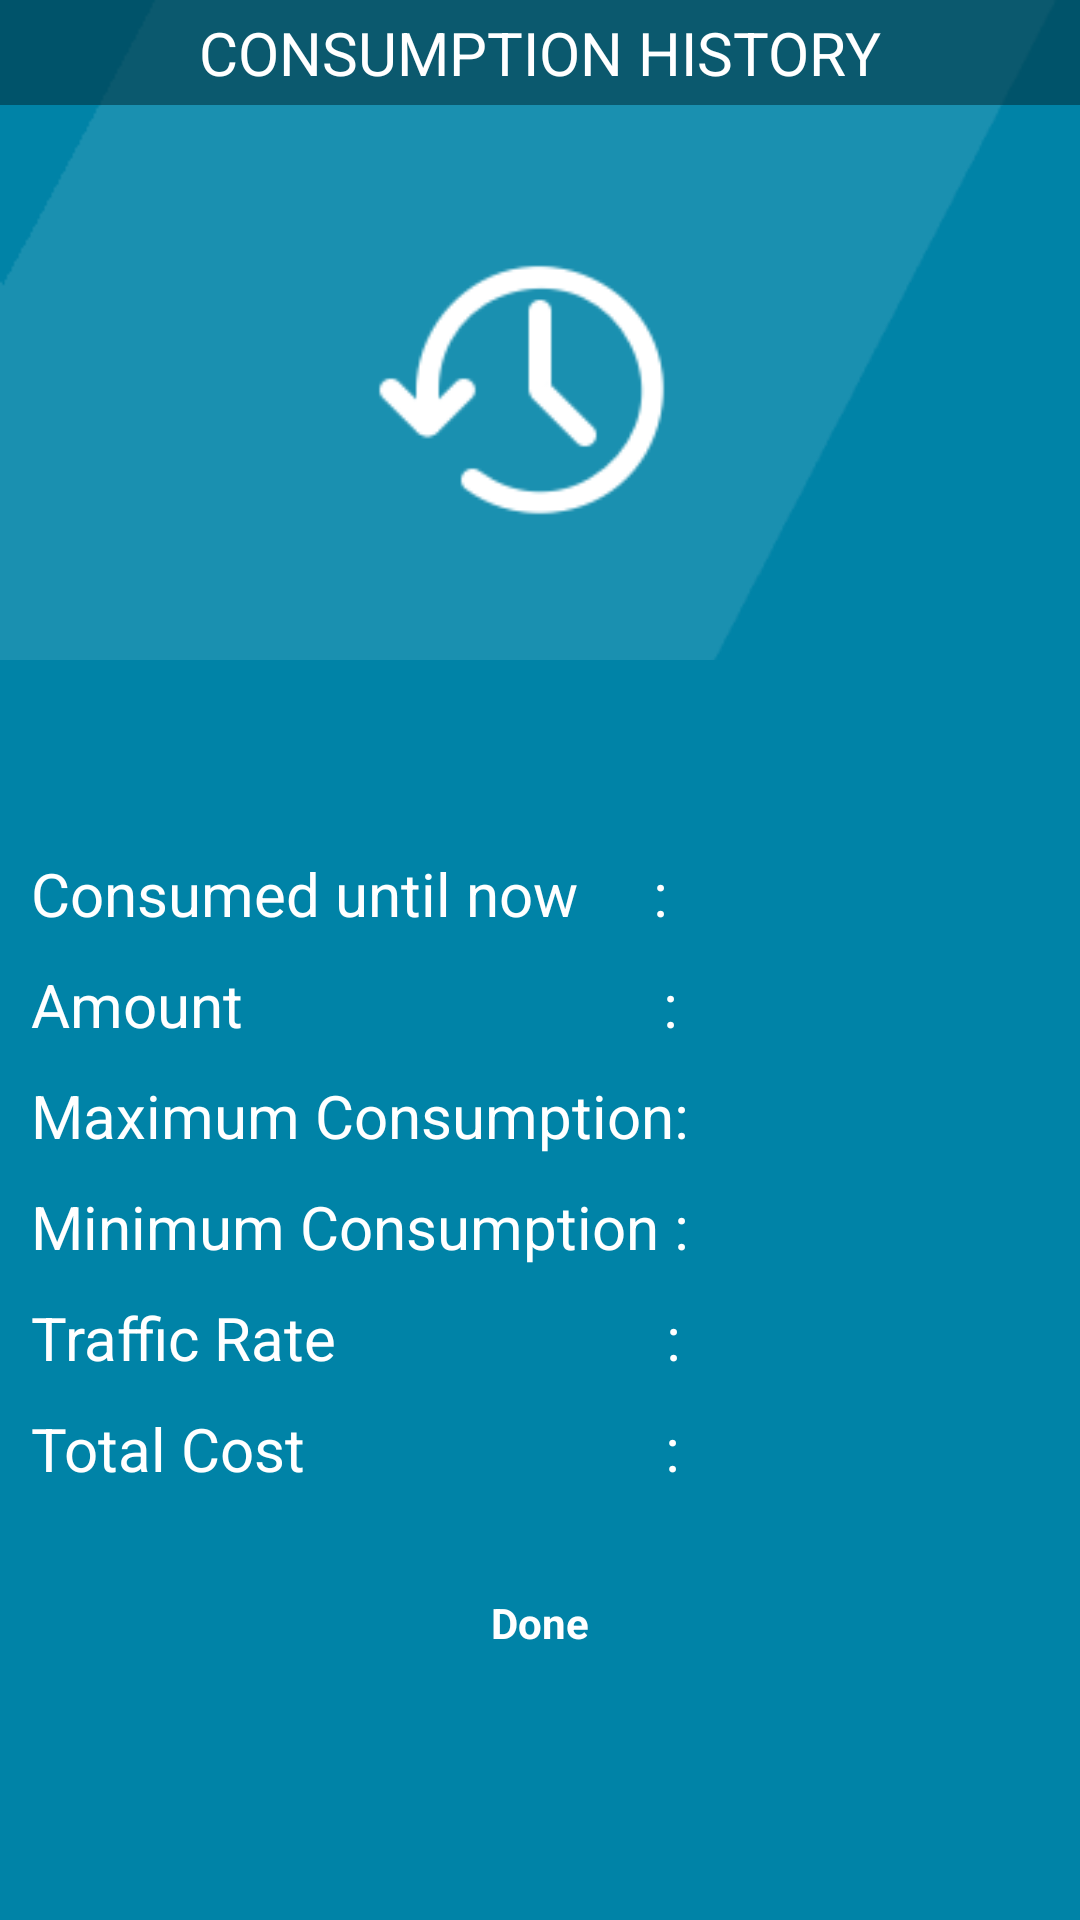

Point at icon controls on the screen. Image size 1080*1920, points as point (x, y).
con his: point (522, 390)
